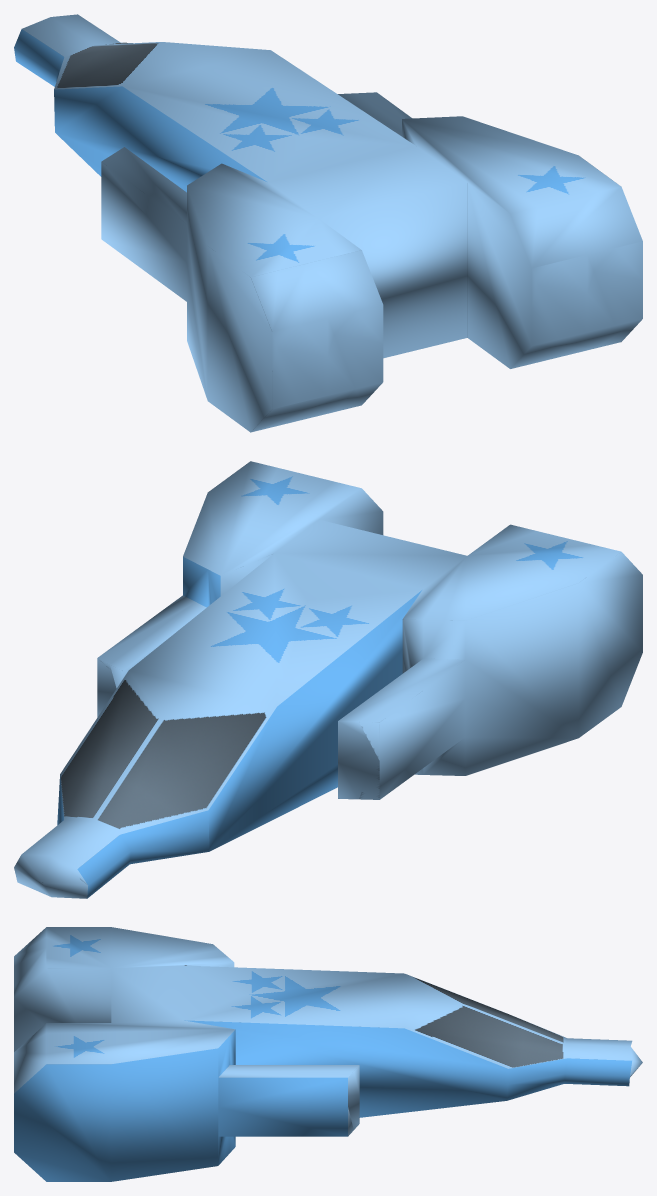
File: spacesShip2.fbx
The picture shows the model from 3 angles, top to bottom: view 1: azimuth 30°, elevation 25°; view 2: azimuth 150°, elevation 25°; view 3: azimuth 270°, elevation 25°; orthographic projection. The views are drawn at different scales.
Parts seen in each view (by area): view 1: Cube; view 2: Cube; view 3: Cube.
Part boxes in pixels (box(x1,y1,x2,y2)): Cube: box(14, 14, 642, 432); Cube: box(14, 461, 642, 898); Cube: box(14, 927, 642, 1181).
Bounding box in the file's own units: 500 × 204 × 969.
